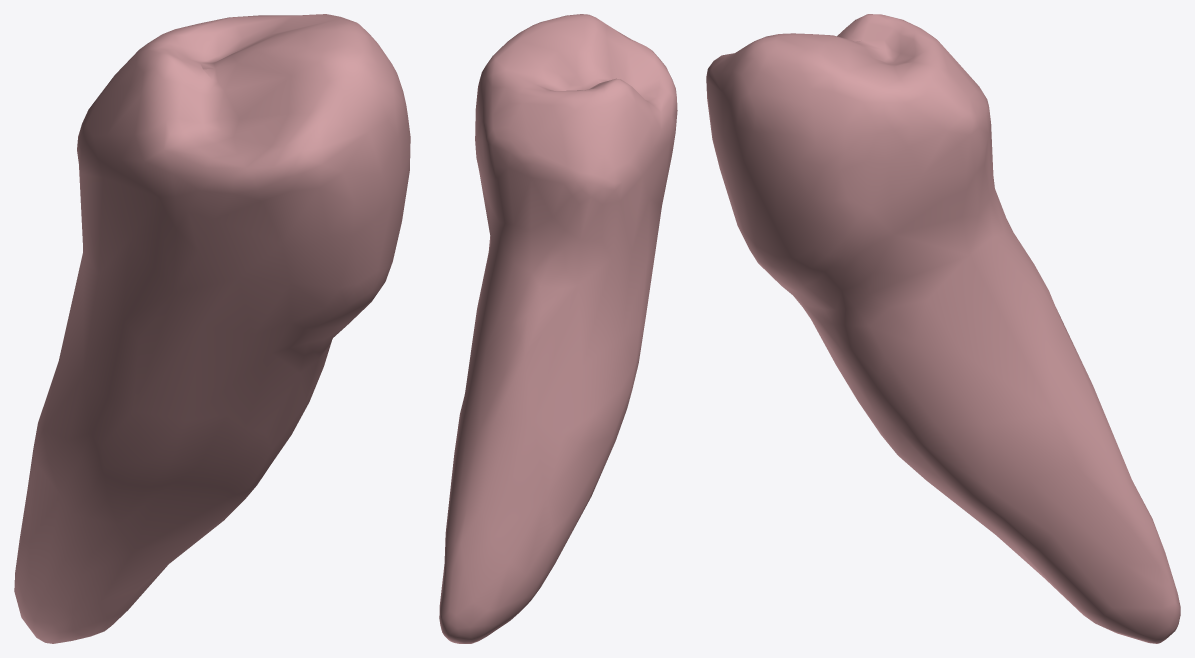
File: fma55693_mm818.glb
3 views of the same model, side by side, from view 1: azimuth 30°, elevation 25°; view 2: azimuth 150°, elevation 25°; view 3: azimuth 270°, elevation 25° (orthographic). The views are drawn at different scales.
Visible parts, largest first — view 1: FMA55693_MM818; view 2: FMA55693_MM818; view 3: FMA55693_MM818.
Boxes of the visible parts, left/top/right/bottom form: FMA55693_MM818: left=14, top=14, right=410, bottom=643; FMA55693_MM818: left=439, top=14, right=677, bottom=643; FMA55693_MM818: left=706, top=14, right=1180, bottom=643.
Bounding box in the file's own units: 0.00736 × 0.0197 × 0.0136.
